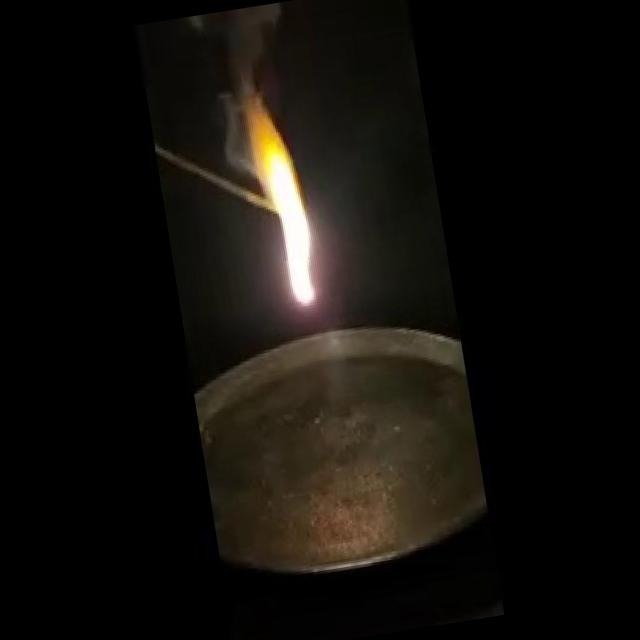Fire: (236, 84, 334, 316)
